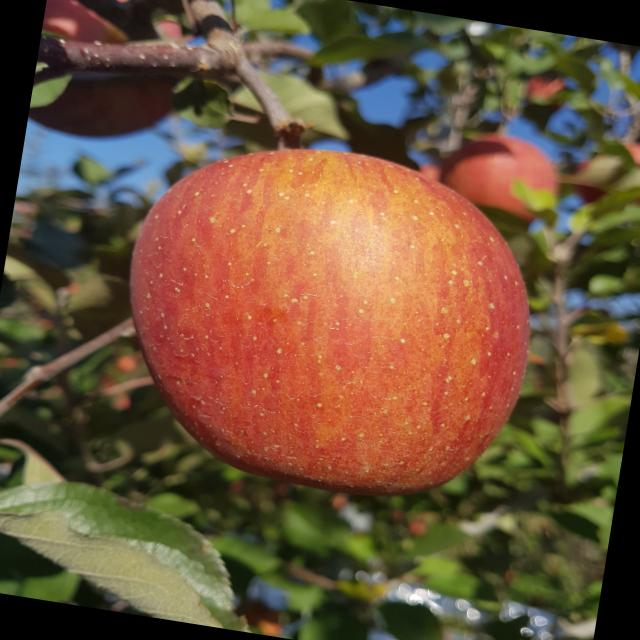fresh: (82, 113, 572, 530)
